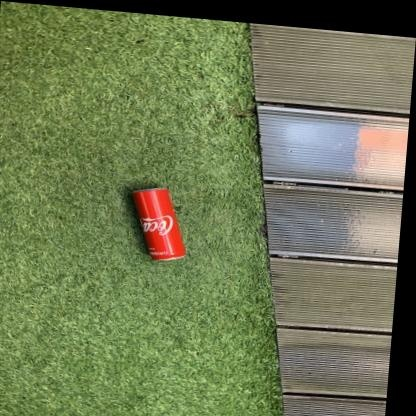trash: (132, 188, 185, 259)
